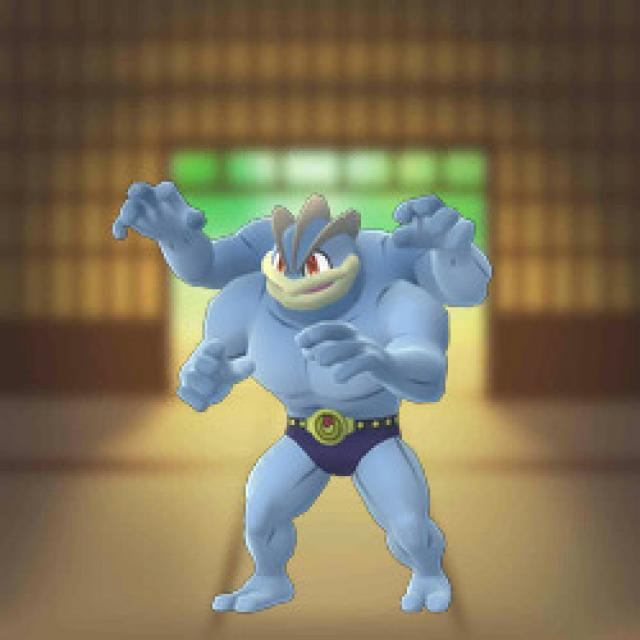Machamp: (189, 191, 474, 616)
